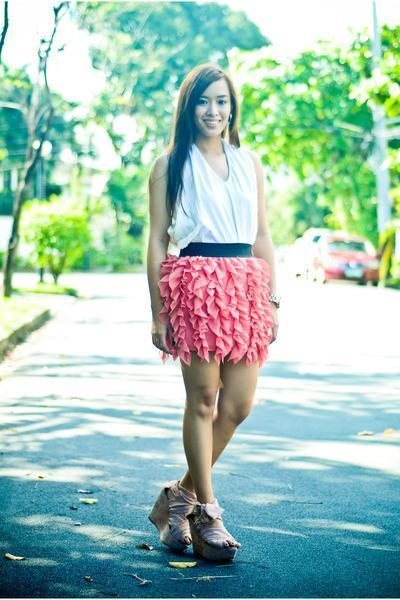shirt: (168, 143, 266, 251)
shoe: (148, 492, 238, 563)
skirt: (158, 256, 279, 395)
